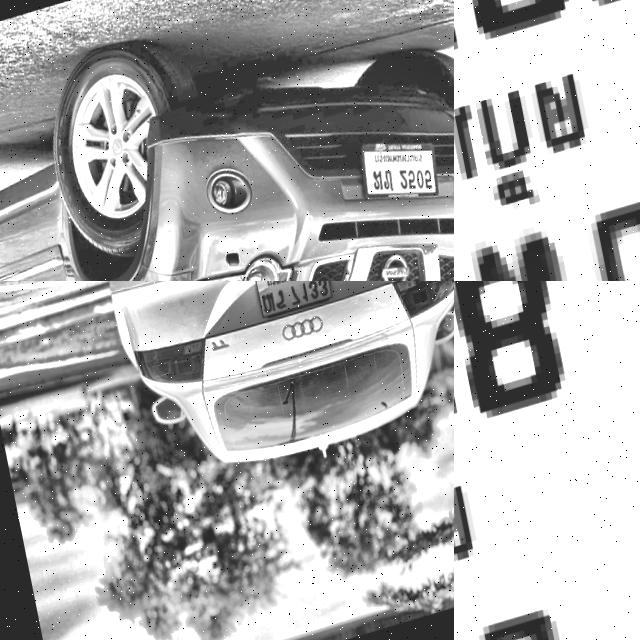license-plate: (454, 281, 640, 640), (454, 0, 640, 281), (352, 128, 444, 229), (250, 281, 334, 328)
